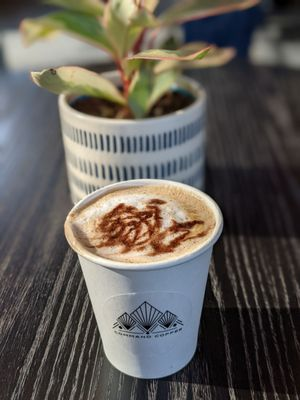pizza: (63, 179, 224, 375)
